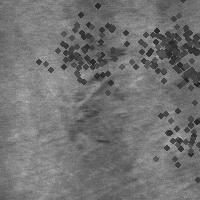rolled-in_scale: (27, 0, 141, 105), (134, 85, 200, 193), (67, 62, 129, 158), (120, 14, 190, 84), (142, 3, 200, 85), (79, 32, 130, 72), (166, 53, 200, 97)
